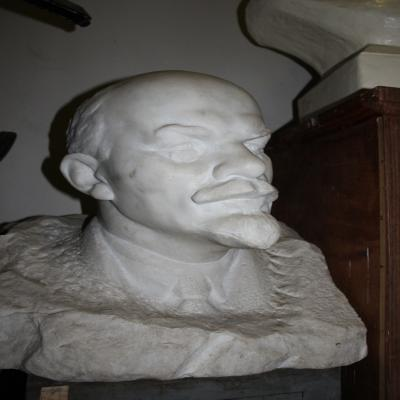sculpture: (0, 70, 368, 384)
